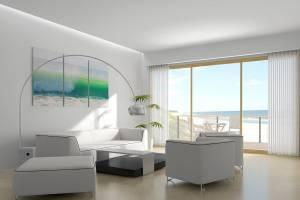window: (165, 53, 271, 152)
